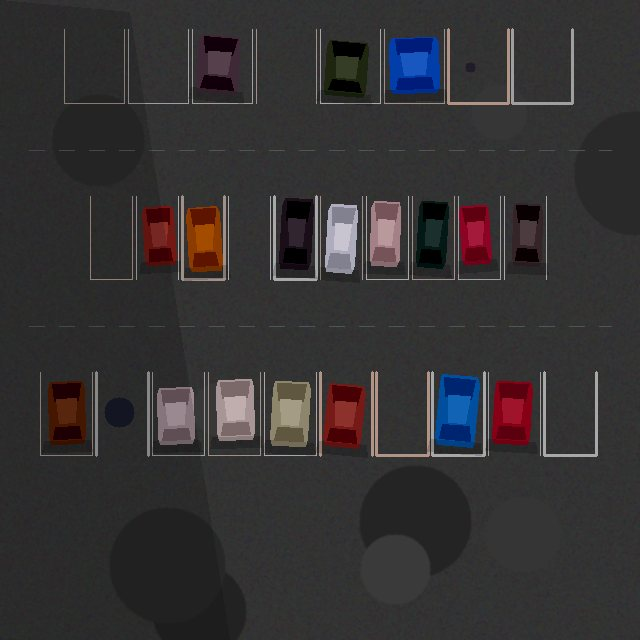space-empty: (64, 29, 124, 103), (128, 29, 188, 103), (256, 29, 316, 103), (448, 29, 508, 103), (512, 29, 572, 103), (96, 372, 148, 455), (376, 372, 428, 455), (544, 372, 596, 455), (90, 196, 132, 279), (228, 196, 270, 279)
space-occupied: (192, 29, 252, 103), (320, 29, 380, 103), (384, 29, 444, 103), (40, 372, 92, 455), (152, 372, 204, 455), (208, 372, 260, 455), (264, 372, 316, 455), (320, 372, 372, 455), (432, 372, 484, 455), (488, 372, 540, 455), (136, 196, 178, 279), (182, 196, 224, 279), (274, 196, 316, 279), (320, 196, 362, 279), (366, 196, 408, 279), (412, 196, 454, 279), (458, 196, 500, 279), (504, 196, 546, 279)
